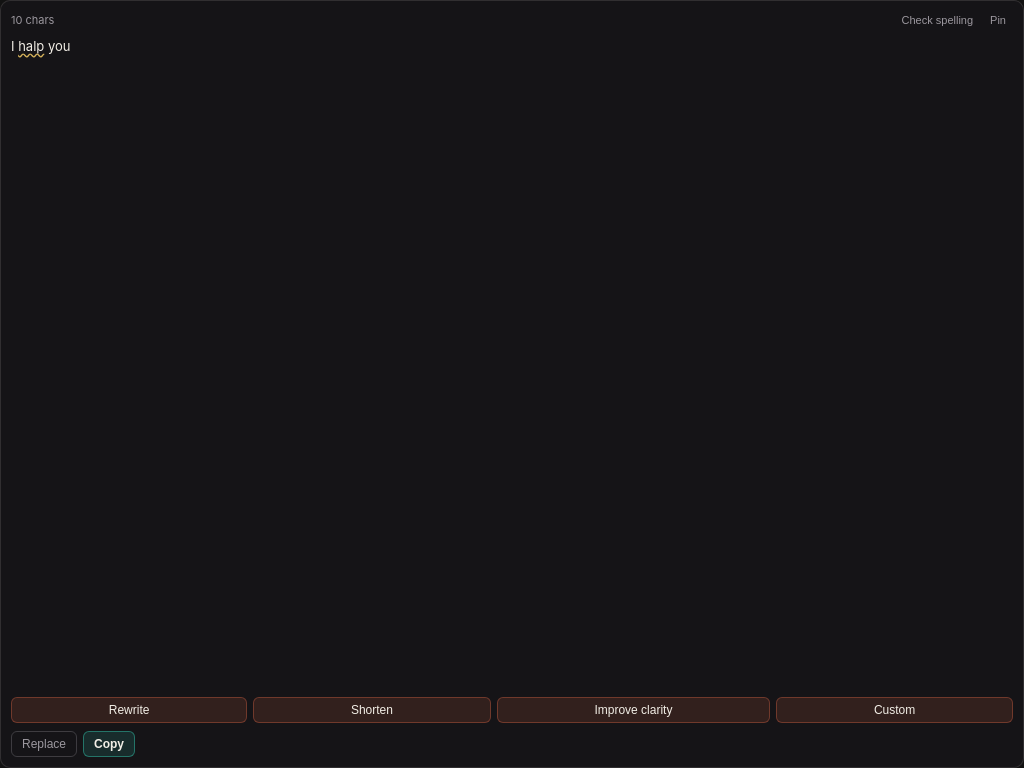
Test: popover App › clears marks when the user types in the textarea
The image size is (1024, 768).
Expected: the number of elements with class "mark" is 1, [18,38,44,54]
Replace the text in the text box with "I halp you now". click: coordinates (512, 363)
box: [11,37,1013,689]
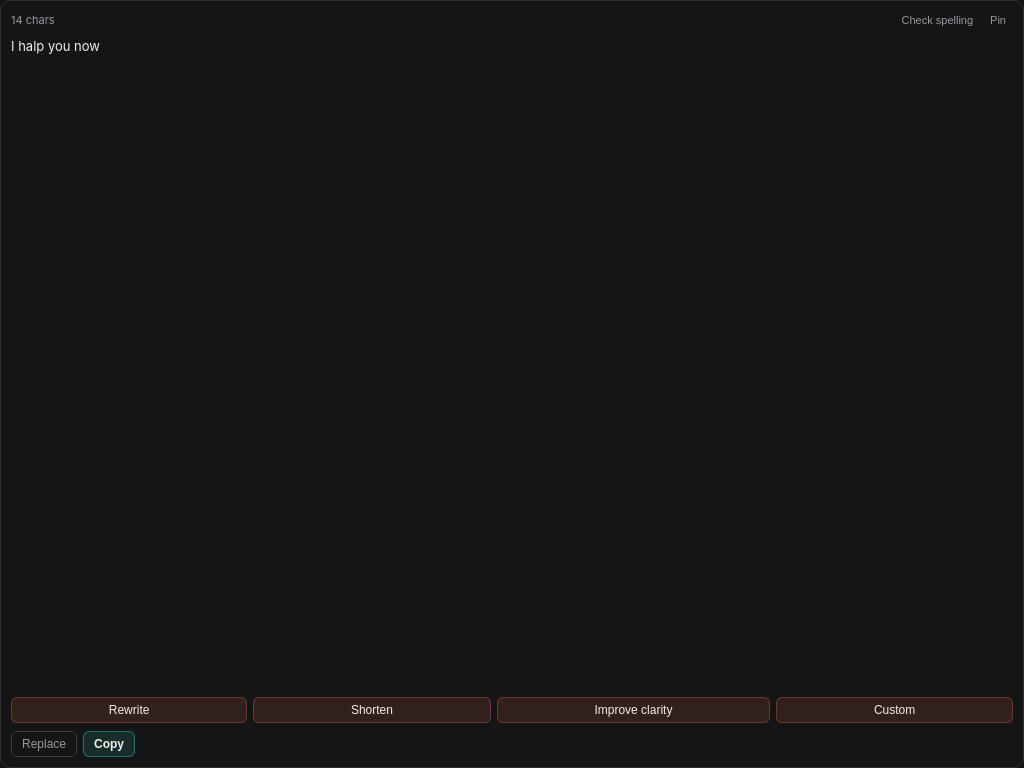
Expected: no elements with class "mark" are shown
